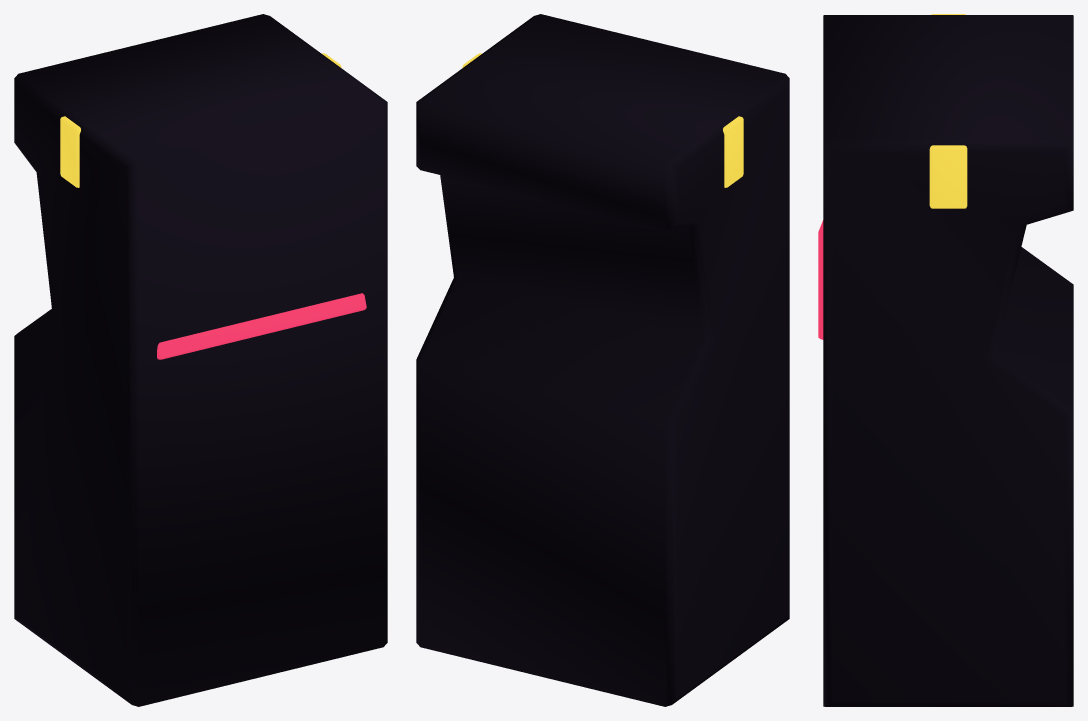
The model's file is prop_arcade_cabinet.glb.
The picture shows the model from 3 angles, left to right: view 1: azimuth 30°, elevation 25°; view 2: azimuth 150°, elevation 25°; view 3: azimuth 270°, elevation 25°; orthographic projection. The views are drawn at different scales.
Parts seen in each view (by area): view 1: prop_arcade_cabinet; view 2: prop_arcade_cabinet; view 3: prop_arcade_cabinet.
Boxes of the visible parts, bbox=[...] form: prop_arcade_cabinet: bbox=[14, 14, 387, 706]; prop_arcade_cabinet: bbox=[416, 14, 789, 706]; prop_arcade_cabinet: bbox=[818, 14, 1073, 706].
Size of the model in its own units: 1.02 by 2 by 0.8166.
